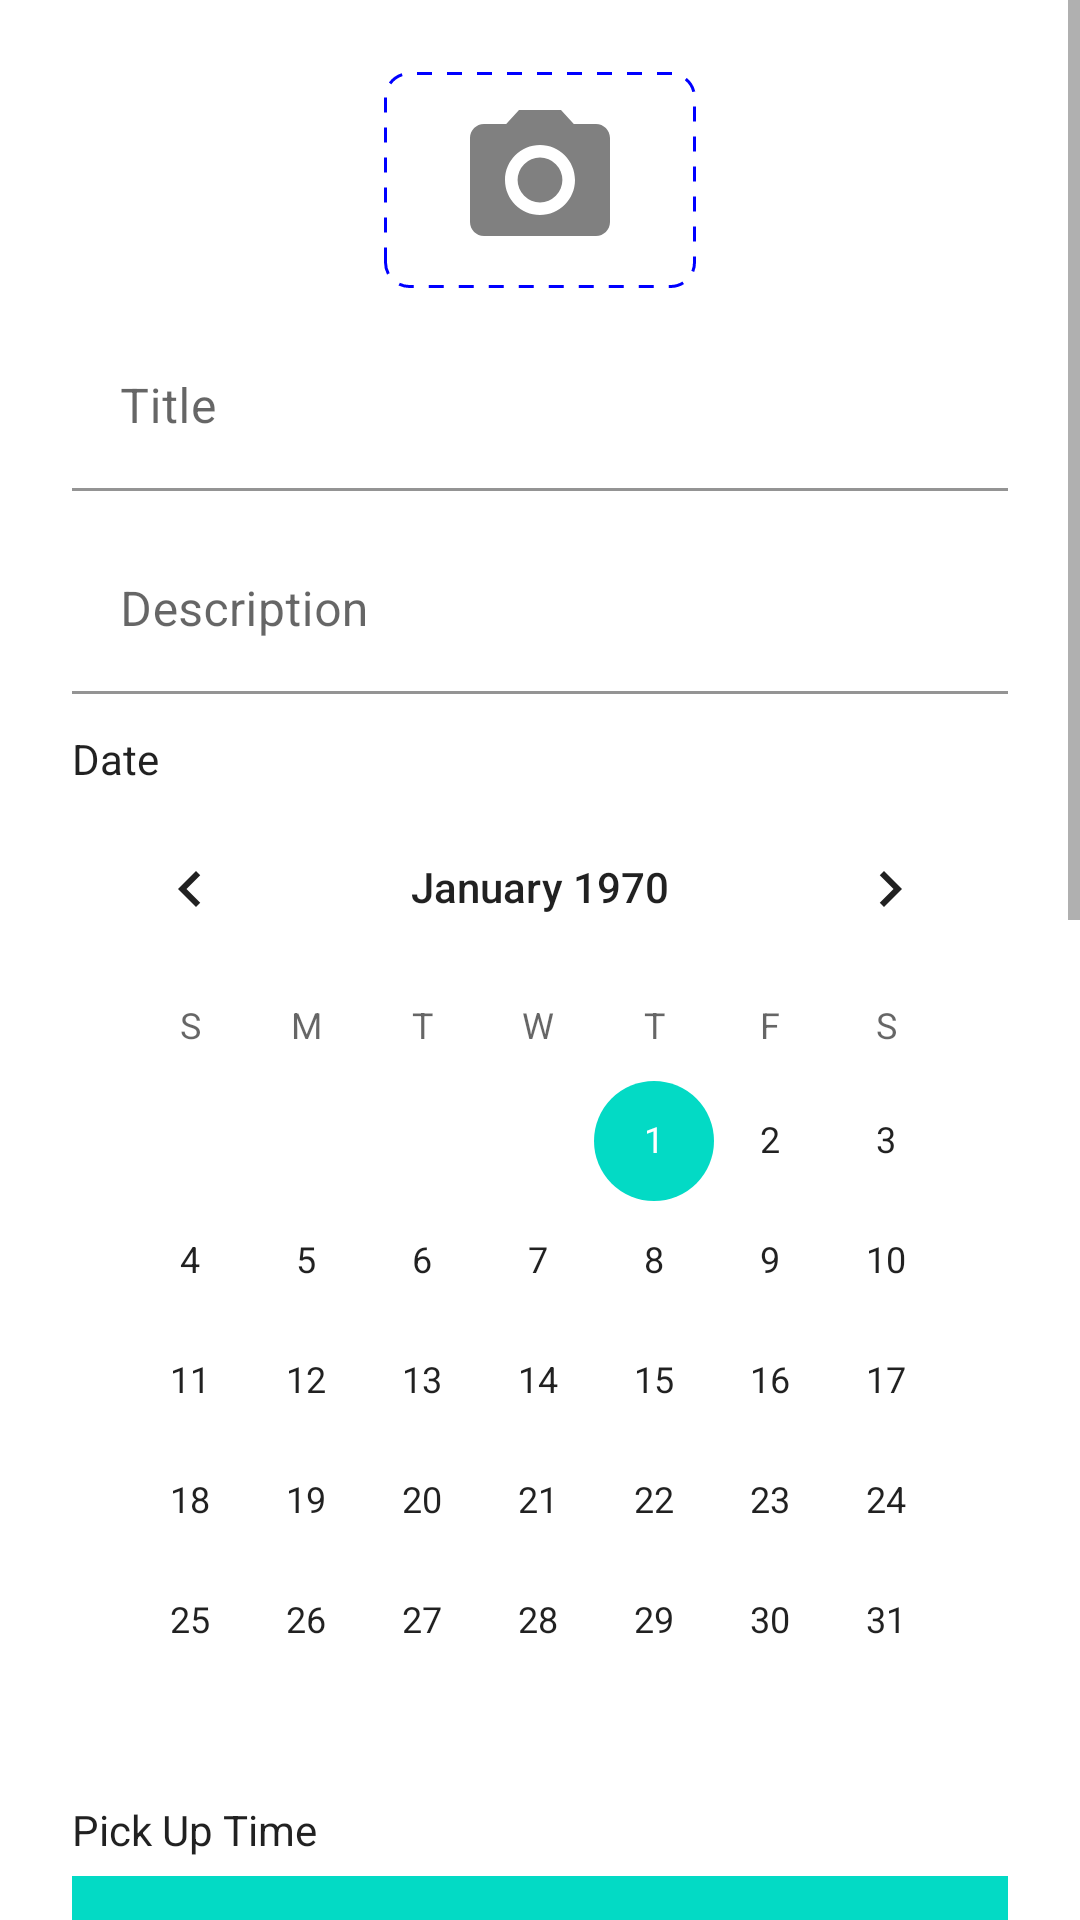

Icons on this 1080px x 1920px Android screen, each with its box as region(x1, y1, x2, y2):
camera: region(470, 110, 610, 236)
